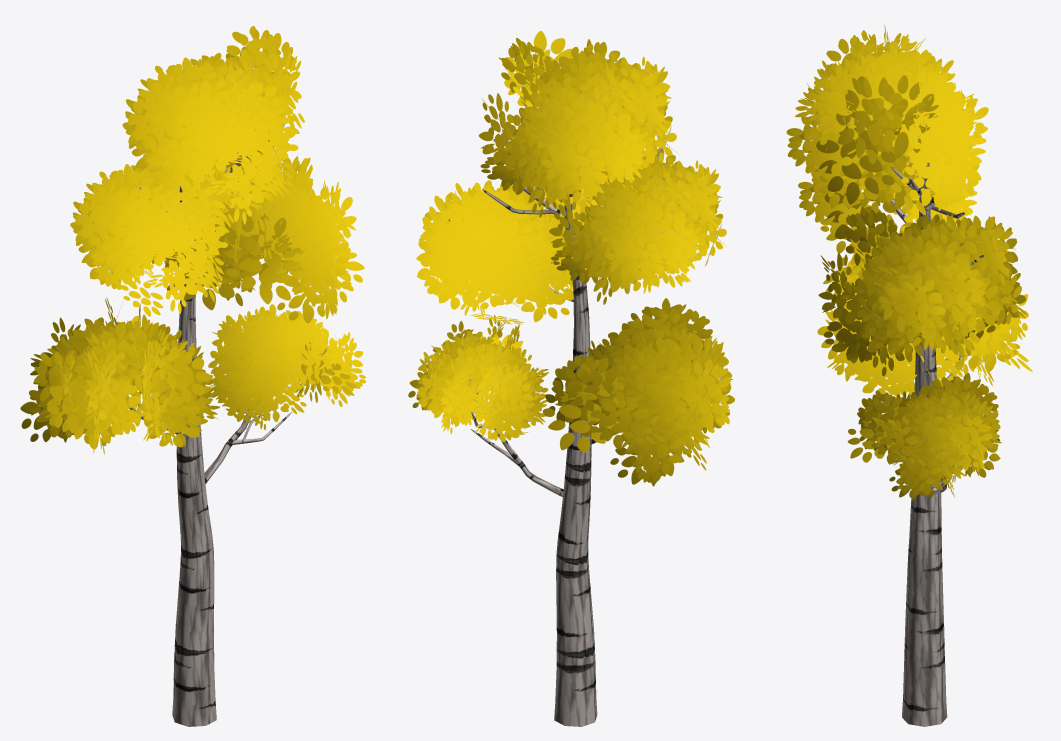
The model's file is birch_tree_1.glb.
3 views of the same model, side by side, from view 1: azimuth 30°, elevation 25°; view 2: azimuth 150°, elevation 25°; view 3: azimuth 270°, elevation 25° (orthographic). The views are drawn at different scales.
Visible parts, largest first — view 1: BirchTree_1; view 2: BirchTree_1; view 3: BirchTree_1.
Part boxes in pixels (left/top/right/bottom): BirchTree_1: left=20, top=26, right=365, bottom=726; BirchTree_1: left=408, top=30, right=734, bottom=726; BirchTree_1: left=786, top=24, right=1032, bottom=726.
Bounding box in the file's own units: 2.71 × 5.45 × 1.94.
2 materials, 2 textured.
